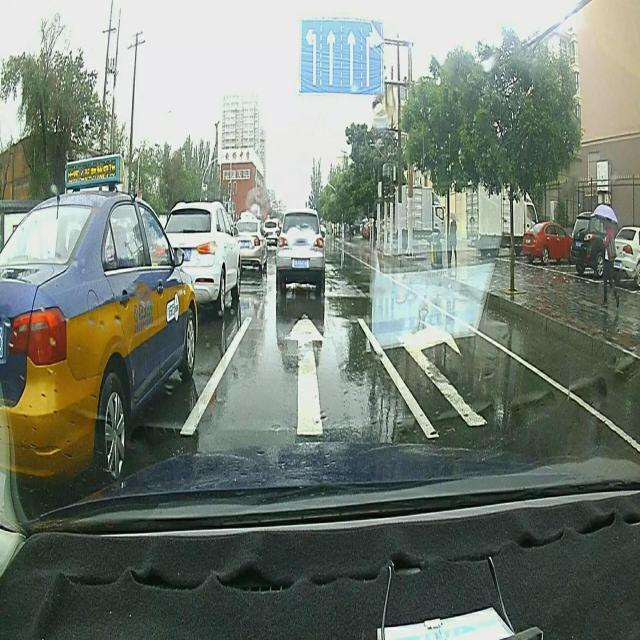car: (1, 152, 198, 486), (160, 198, 241, 314), (274, 204, 324, 298), (234, 216, 266, 272), (263, 218, 279, 245)
